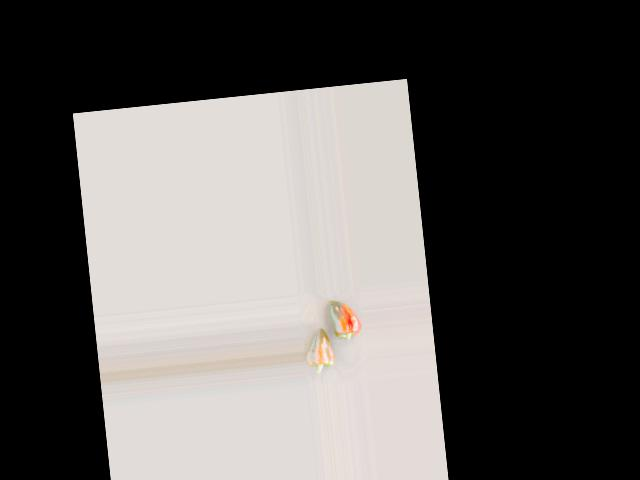bell_pepper: (326, 294, 365, 355)
